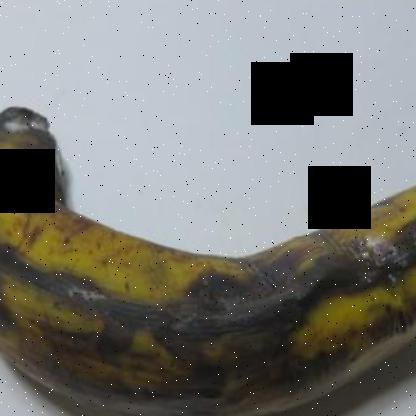overripe: (0, 84, 415, 415)
